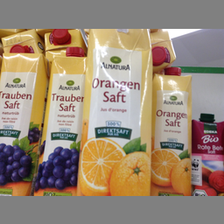juice: (77, 29, 153, 195), (31, 46, 86, 195), (1, 45, 51, 195), (151, 67, 192, 195), (191, 112, 224, 194)
